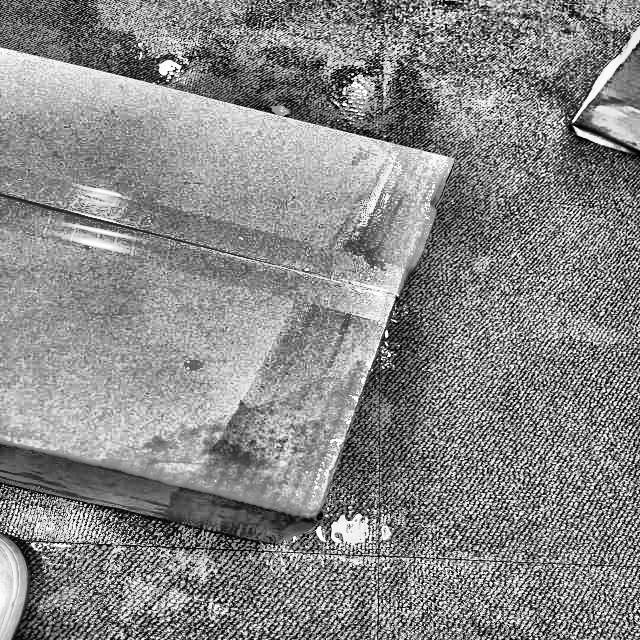box: (0, 30, 452, 551)
wet: (168, 308, 386, 542), (356, 137, 464, 272)
